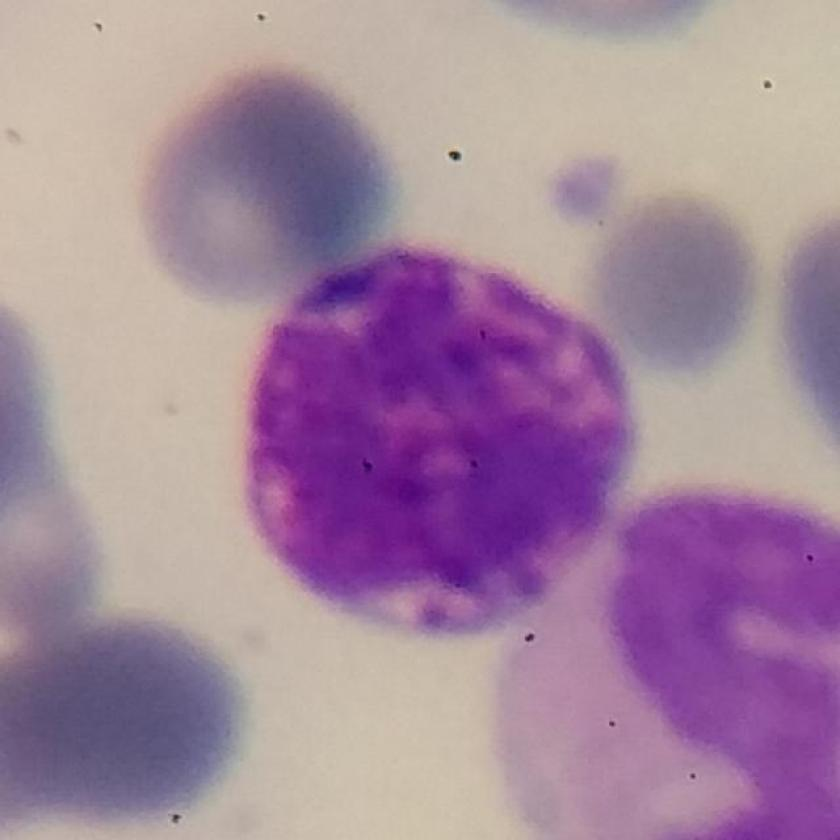basophil: (244, 233, 634, 648)
